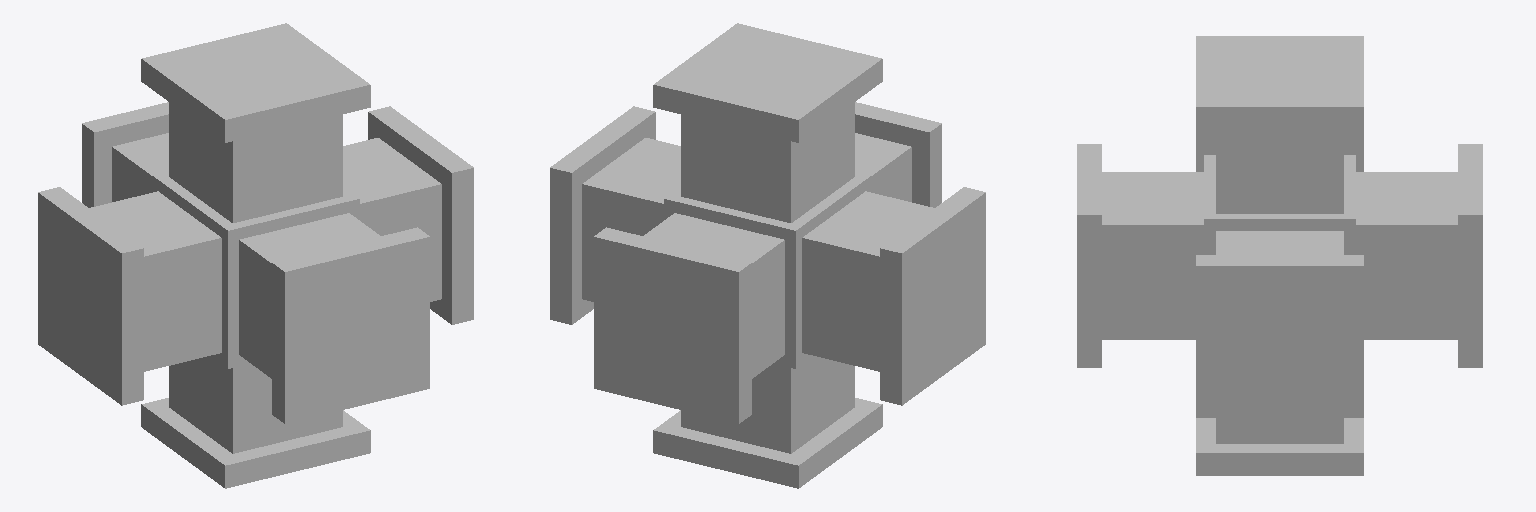
Rendered from fluidpipe.obj.
3 renders of one model, left to right at view 1: azimuth 30°, elevation 25°; view 2: azimuth 150°, elevation 25°; view 3: azimuth 270°, elevation 25°, orthographic.
Visible parts, largest first — view 1: straightz, straightx, straighty, army2, army1, armx2, center, armx1, armz2; view 2: straightx, straighty, straightz, armz1, armx2, army2, center, army1, armx1, armz2; view 3: straightz, straightx, straighty, army2, army1, center, armz1, armz2, armx1.
Part boxes in pixels (left/top/right/bottom): straightz: left=82, top=102, right=429, bottom=423; straightx: left=38, top=106, right=473, bottom=405; straighty: left=141, top=23, right=370, bottom=488; army2: left=141, top=356, right=370, bottom=486; army1: left=169, top=102, right=342, bottom=222; armx2: left=38, top=187, right=221, bottom=403; center: left=152, top=171, right=359, bottom=368; armx1: left=343, top=138, right=441, bottom=301; armz2: left=239, top=213, right=378, bottom=378; straightx: left=550, top=106, right=985, bottom=405; straighty: left=653, top=23, right=882, bottom=487; straightz: left=595, top=102, right=941, bottom=423; armz1: left=594, top=216, right=783, bottom=422; armx2: left=802, top=189, right=985, bottom=405; army2: left=653, top=356, right=880, bottom=488; center: left=664, top=171, right=871, bottom=368; army1: left=681, top=102, right=854, bottom=222; armx1: left=582, top=138, right=680, bottom=301; armz2: left=855, top=133, right=911, bottom=201; straightz: left=1077, top=144, right=1482, bottom=367; straightx: left=1196, top=130, right=1363, bottom=417; straighty: left=1196, top=36, right=1363, bottom=475; army2: left=1196, top=418, right=1363, bottom=475; army1: left=1216, top=130, right=1343, bottom=213; center: left=1204, top=155, right=1355, bottom=254; armz1: left=1356, top=144, right=1482, bottom=367; armz2: left=1102, top=172, right=1203, bottom=339; armx1: left=1216, top=231, right=1343, bottom=254.
Bounding box in the file's own units: 1 × 1 × 1.